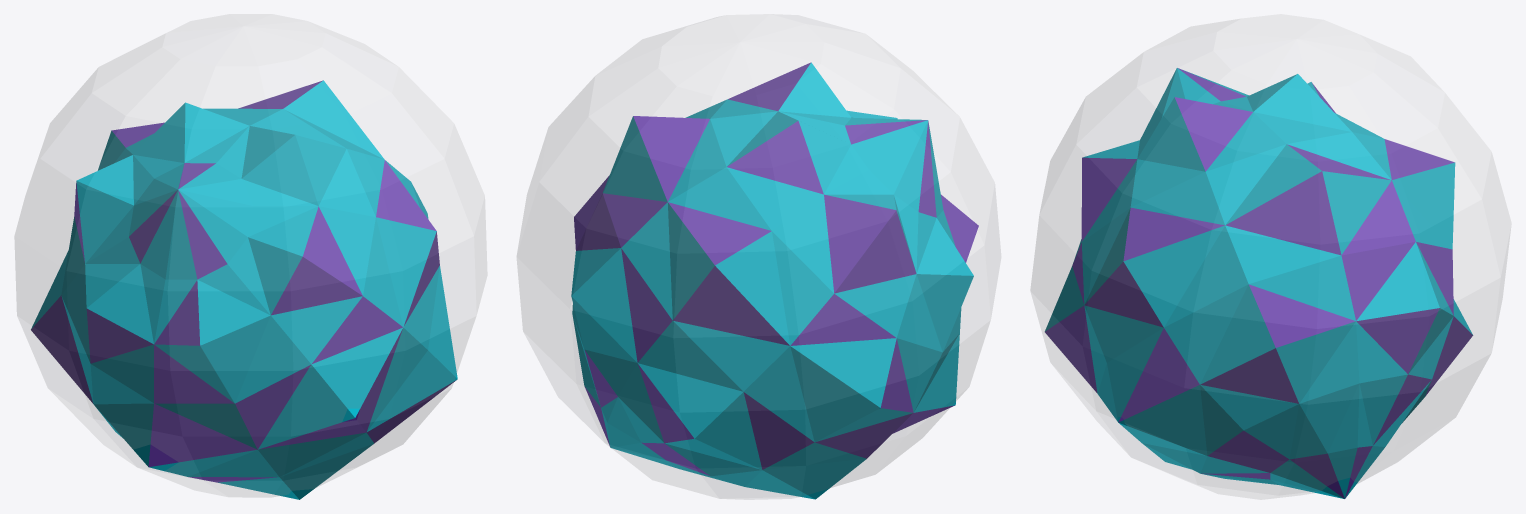
Rendered from Burbuja.gltf.
3 views of the same model, side by side, from view 1: azimuth 30°, elevation 25°; view 2: azimuth 150°, elevation 25°; view 3: azimuth 270°, elevation 25° (orthographic). The views are drawn at different scales.
Visible parts, largest first — view 1: node_MeshObject-2123437248-PolyGlass24, node_MeshObject1317750592-PolyPaper4; view 2: node_MeshObject-2123437248-PolyGlass24, node_MeshObject1317750592-PolyPaper4; view 3: node_MeshObject-2123437248-PolyGlass24, node_MeshObject1317750592-PolyPaper4.
Part boxes in pixels (x1=…): node_MeshObject-2123437248-PolyGlass24: x1=14, y1=14, x2=487, y2=497; node_MeshObject1317750592-PolyPaper4: x1=31, y1=80, x2=457, y2=499; node_MeshObject-2123437248-PolyGlass24: x1=517, y1=14, x2=1000, y2=499; node_MeshObject1317750592-PolyPaper4: x1=571, y1=62, x2=978, y2=499; node_MeshObject-2123437248-PolyGlass24: x1=1030, y1=14, x2=1511, y2=499; node_MeshObject1317750592-PolyPaper4: x1=1044, y1=68, x2=1473, y2=498.
Bounding box in the file's own units: 0.4771 × 0.4871 × 0.4817.
